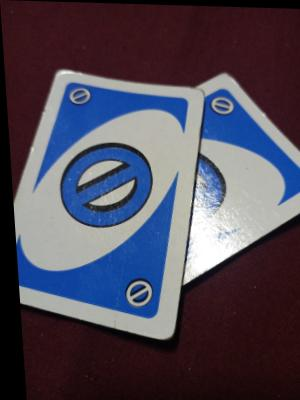blue: (53, 92, 168, 300)
skip: (117, 276, 153, 310), (61, 83, 95, 107), (209, 93, 238, 115)
